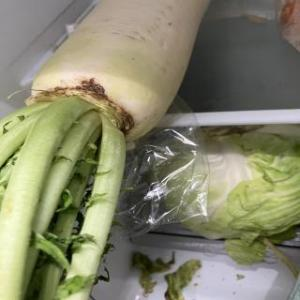cabbage: (150, 123, 300, 244)
